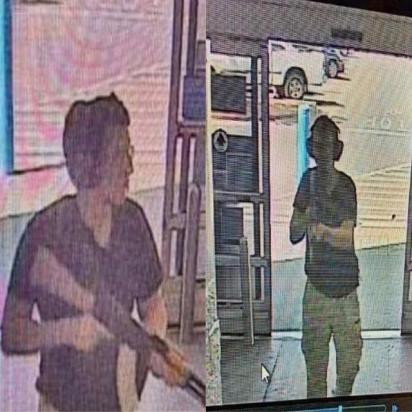Gun: (26, 240, 204, 412)
